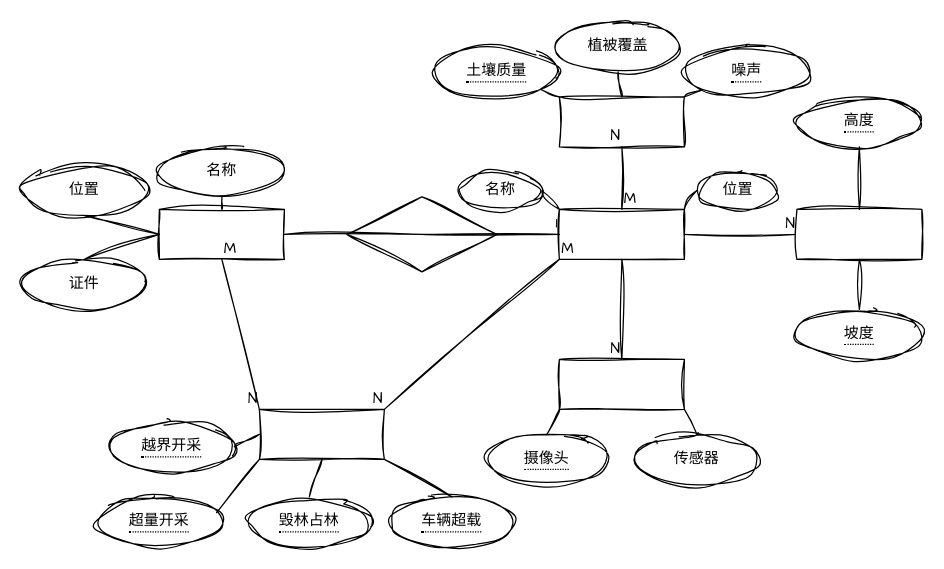
This 944x569 diagram has some shape labels left out. The box of each missing label's shape, as (x1, y1, x2, y2) in pixels:
拥有: (346, 196, 497, 272)
检测系统: (558, 358, 684, 409)
生态环境: (558, 96, 684, 147)
矿区: (558, 208, 684, 259)
矿山台阶: (796, 208, 922, 259)
违法违规行为: (258, 408, 384, 459)
采矿企业及个人: (158, 208, 284, 259)
